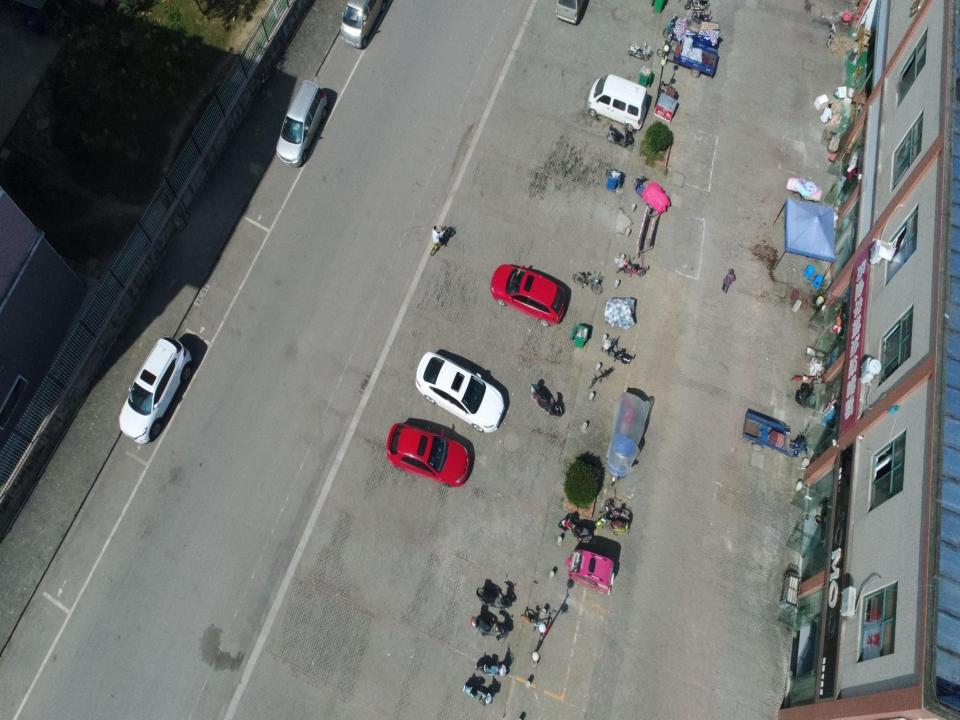car: (116, 334, 194, 446), (416, 351, 504, 433), (388, 419, 470, 487), (491, 259, 566, 328)
van: (278, 79, 328, 166), (588, 75, 647, 129), (341, 0, 385, 48), (567, 549, 613, 592), (556, 1, 588, 25)
